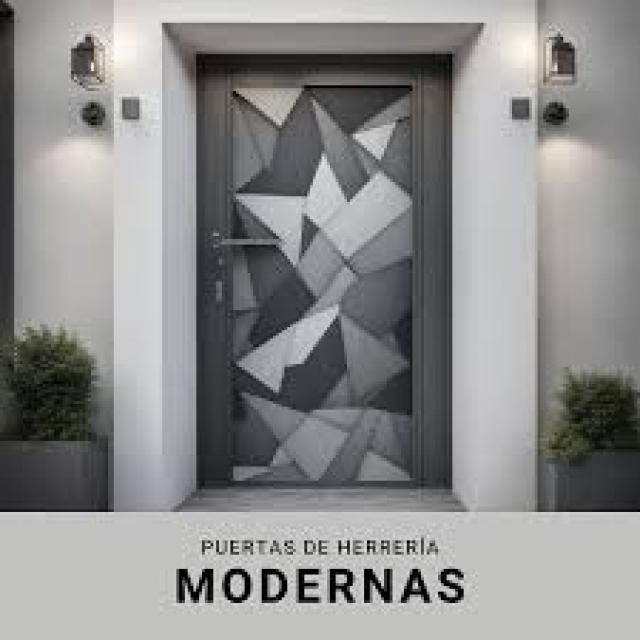door: (195, 51, 454, 492)
